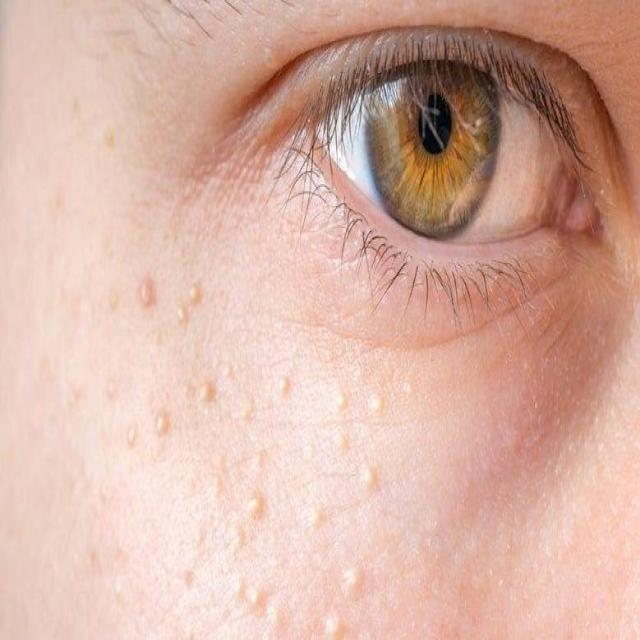milium: (322, 381, 397, 498), (222, 457, 279, 567), (314, 545, 372, 637), (182, 348, 236, 421), (165, 272, 212, 340), (245, 568, 296, 630), (131, 263, 161, 321), (120, 405, 140, 459), (150, 399, 173, 439)
